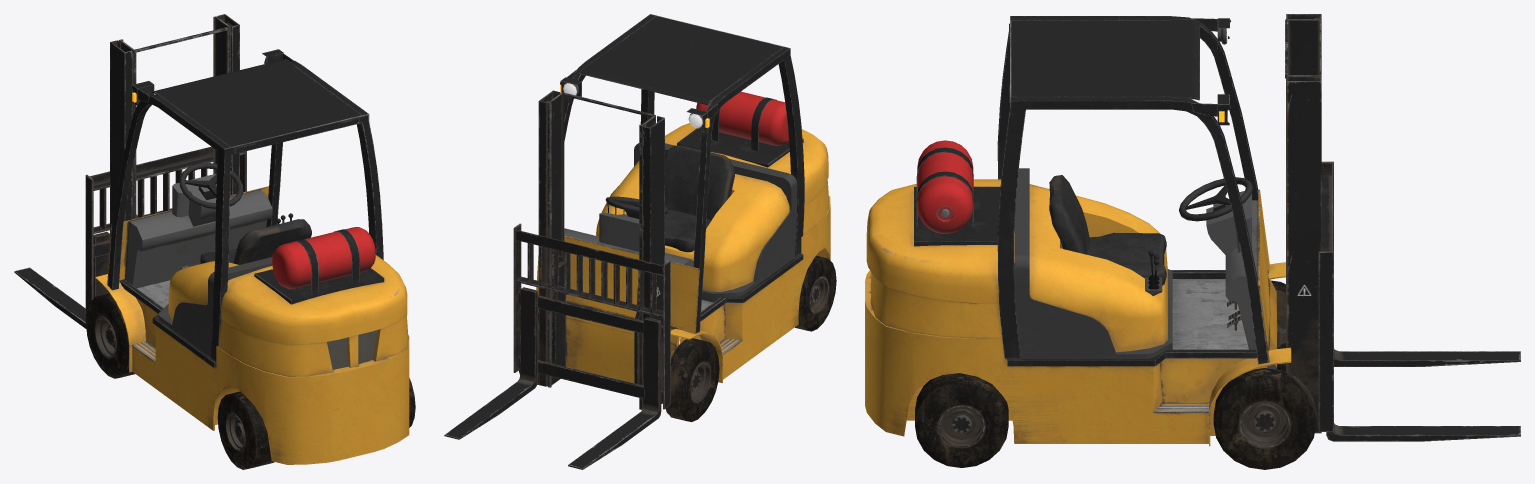
3 views of the same model, side by side, from view 1: azimuth 30°, elevation 25°; view 2: azimuth 150°, elevation 25°; view 3: azimuth 270°, elevation 25° (orthographic). The views are drawn at different scales.
Visible parts, largest first — view 1: forklift_body_A, forklift_body_B; view 2: forklift_body_B, forklift_body_A; view 3: forklift_body_A, forklift_body_B.
Part boxes in pixels (box(x1,y1,x2,y2)): forklift_body_A: box(95, 49, 409, 464); forklift_body_B: box(14, 14, 415, 469); forklift_body_B: box(444, 90, 836, 469); forklift_body_A: box(560, 14, 830, 382); forklift_body_A: box(865, 16, 1291, 446); forklift_body_B: box(915, 14, 1520, 469).
Bounding box in the file's own units: 156 × 268 × 426.
Materials: 3 (3 with a texture image).
